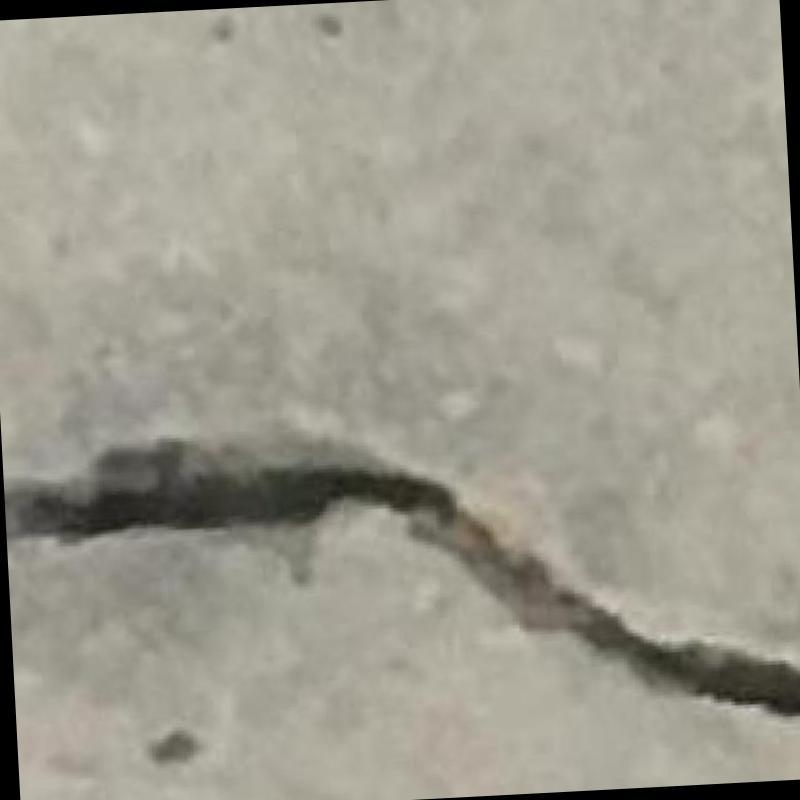crack: (4, 465, 800, 716)
